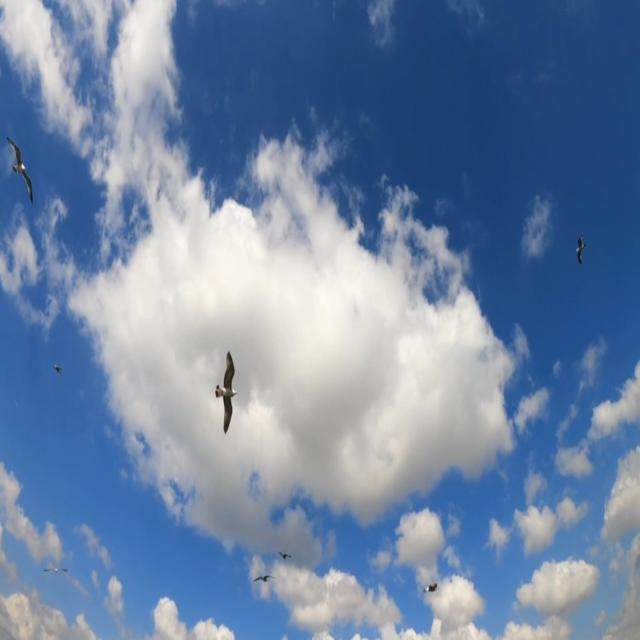bird: (202, 332, 244, 451), (2, 128, 43, 217), (414, 563, 444, 612), (38, 551, 76, 588), (573, 221, 591, 291), (249, 562, 278, 600), (45, 353, 69, 394), (275, 536, 291, 572)
